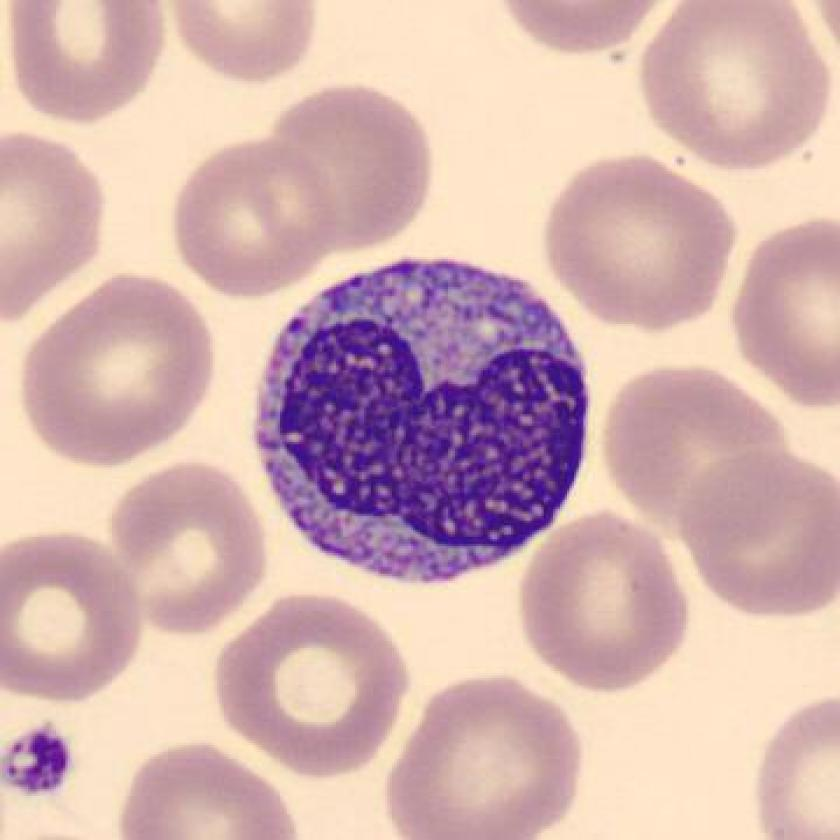monocyte: (244, 230, 608, 605)
